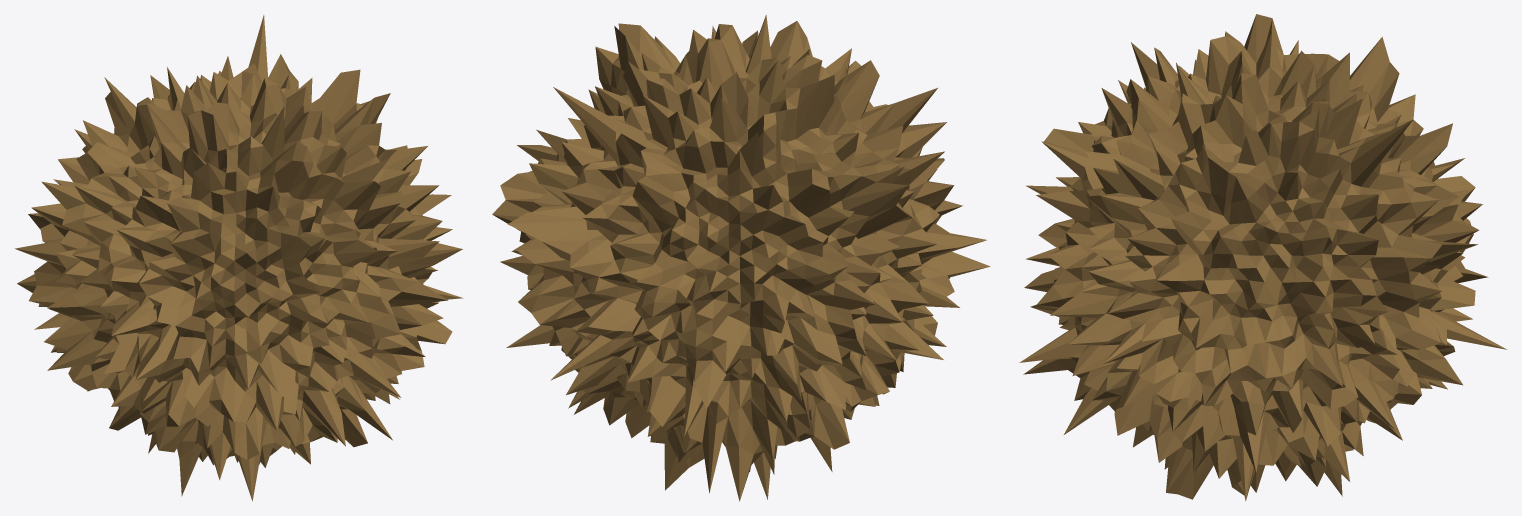
File: asteroid2.glb
3 renders of one model, left to right at view 1: azimuth 30°, elevation 25°; view 2: azimuth 150°, elevation 25°; view 3: azimuth 270°, elevation 25°, orthographic. The views are drawn at different scales.
Parts seen in each view (by area): view 1: Mesh_Mesh_head_geo.001_lambert2SG.001; view 2: Mesh_Mesh_head_geo.001_lambert2SG.001; view 3: Mesh_Mesh_head_geo.001_lambert2SG.001.
Boxes of the visible parts, bbox=[...] form: Mesh_Mesh_head_geo.001_lambert2SG.001: bbox=[15, 15, 463, 501]; Mesh_Mesh_head_geo.001_lambert2SG.001: bbox=[492, 15, 990, 501]; Mesh_Mesh_head_geo.001_lambert2SG.001: bbox=[1019, 14, 1507, 501].
Bounding box in the file's own units: 31.66 × 30.77 × 31.73.
